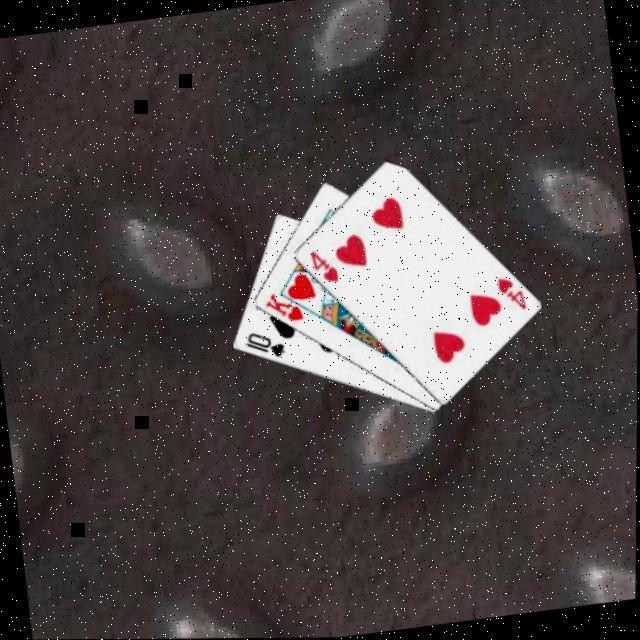10S: (238, 326, 288, 366)
4H: (305, 246, 342, 290), (492, 274, 529, 318)
KH: (259, 288, 306, 329)
